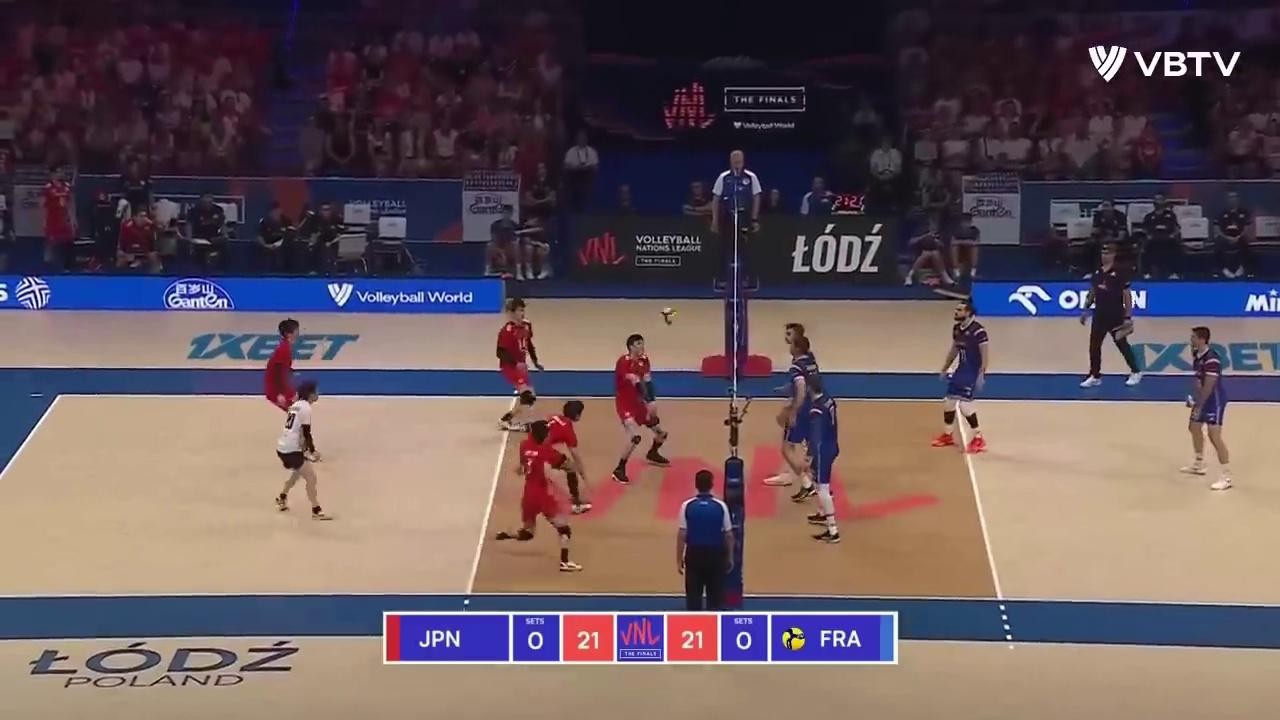ball: (662, 307, 677, 326)
